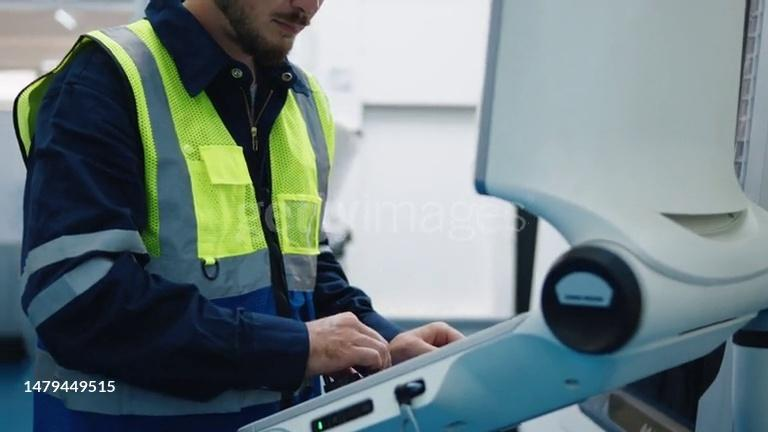person: (9, 1, 466, 432)
